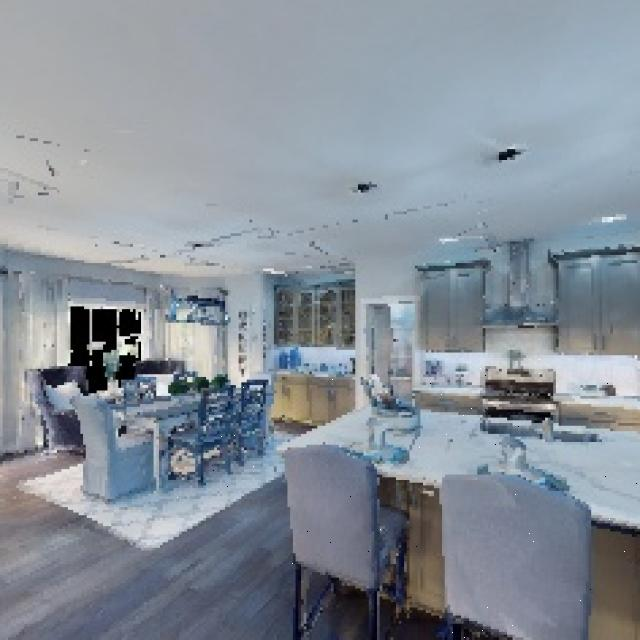chair: (409, 461, 613, 640), (274, 434, 415, 640), (58, 372, 166, 504), (172, 378, 234, 501), (219, 365, 282, 476)
table: (274, 355, 640, 640)
